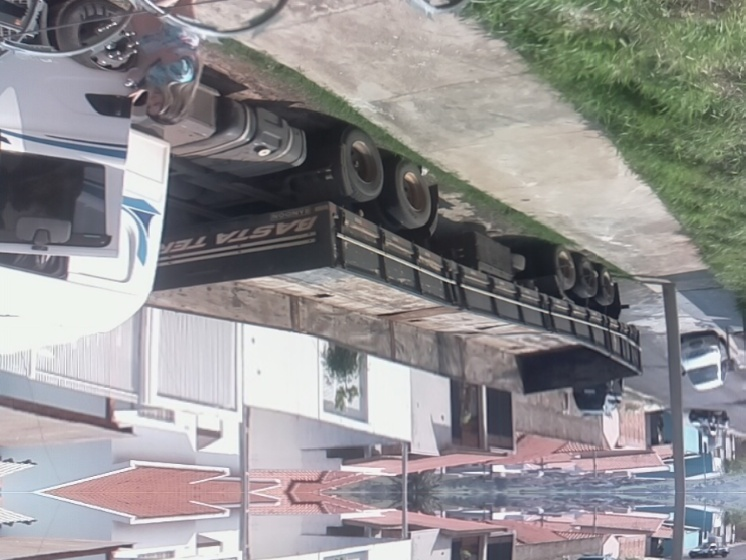person: (118, 0, 206, 126)
